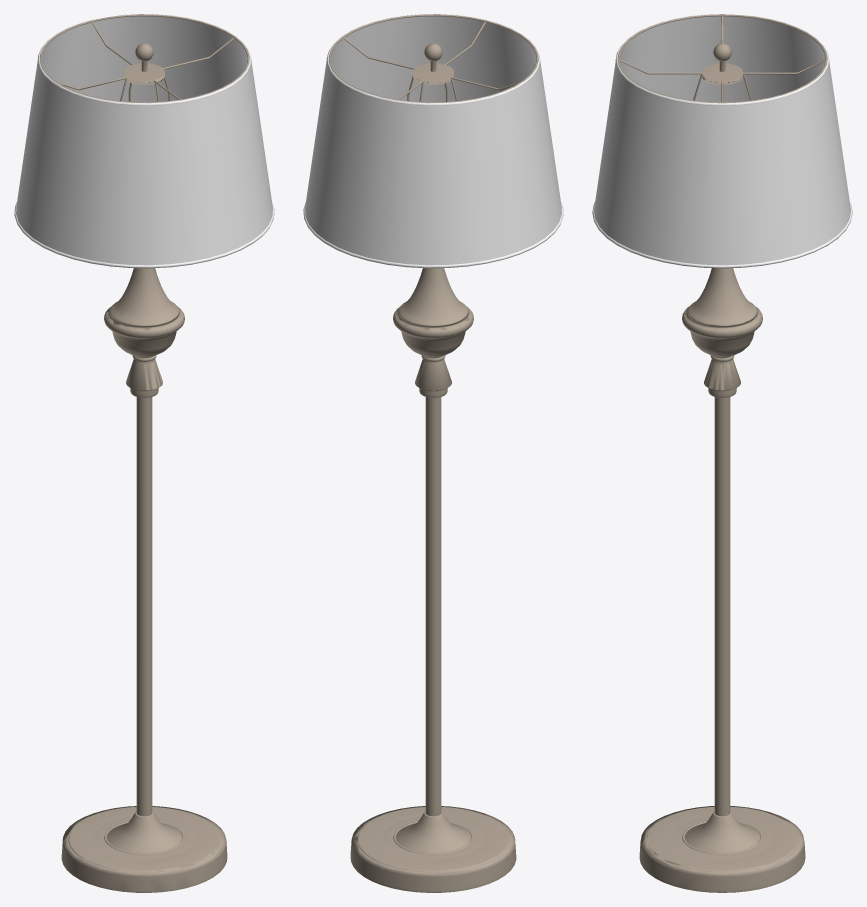
The model's file is B07DBHCKKD.glb.
3 views of the same model, side by side, from view 1: azimuth 30°, elevation 25°; view 2: azimuth 150°, elevation 25°; view 3: azimuth 270°, elevation 25° (orthographic).
Parts seen in each view (by area): view 1: RootNode; view 2: RootNode; view 3: RootNode.
Boxes of the visible parts, x1,y1,x2,y2 form: RootNode: (14, 14, 274, 892); RootNode: (303, 14, 563, 892); RootNode: (592, 14, 852, 892).
Bounding box in the file's own units: 0.4314 × 1.49 × 0.4314.
1 material, 1 textured.
